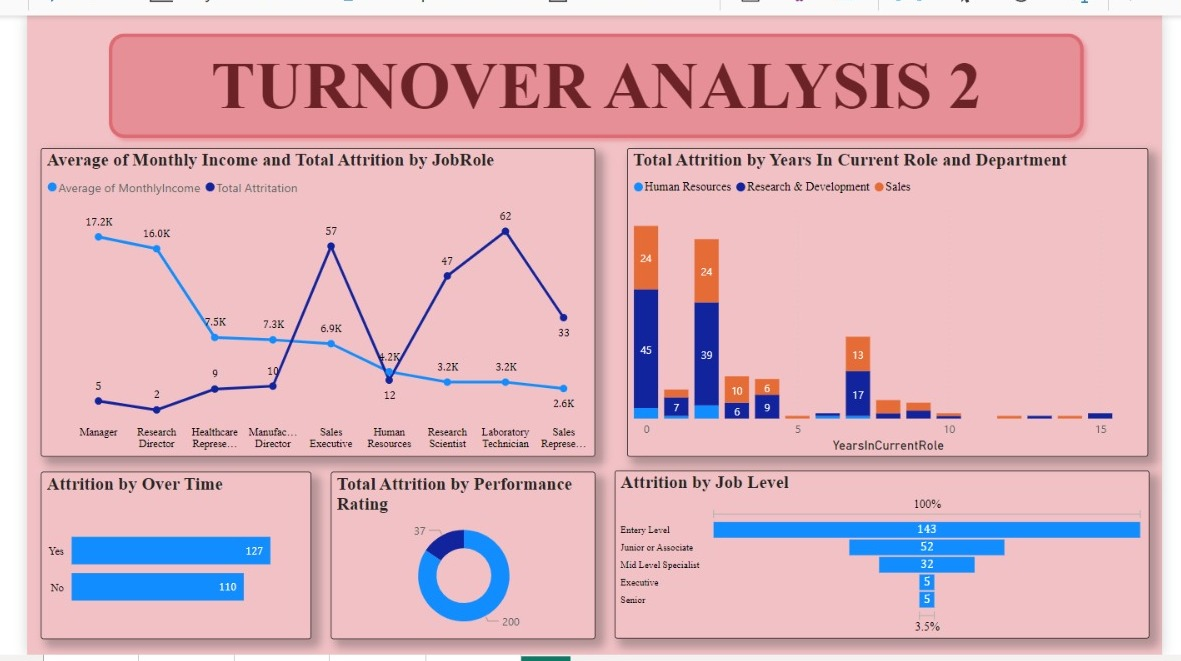

This screenshot's page, from the dashboard's own definition file:
{"tool":"powerbi","page":{"name":"Page 4","canvas":[1280,720],"ordinal":3},"visuals":[{"type":"columnChart","title":"Total Attrition by Years In Current Role and Department","fields":{"Category":["HR-Employee-Attrition.YearsInCurrentRole"],"Y":["All Measure.Total Attritation"],"Series":["HR-Employee-Attrition.Department"]},"box":[676.3,149.9,587.2,348.3],"z":0},{"type":"shape","box":[82.8,10.9,1116.7,135.9],"z":1000},{"type":"lineChart","title":"Average of Monthly Income and Total Attrition by JobRole","fields":{"Category":["HR-Employee-Attrition.JobRole"],"Y":["Avg(HR-Employee-Attrition.MonthlyIncome)"],"Y2":["All Measure.Total Attritation"]},"box":[15.6,149.9,624.7,348.3],"z":2000},{"type":"barChart","title":"Attrition by Over Time","fields":{"Category":["HR-Employee-Attrition.OverTime"],"Y":["All Measure.Total Attritation"]},"box":[15.6,513.8,304.6,189],"z":3000},{"type":"donutChart","title":"Total Attrition by Performance Rating","fields":{"Category":["HR-Employee-Attrition.PerformanceRating (groups)"],"Y":["All Measure.Total Attritation"]},"box":[342,513.8,298.3,189],"z":4000},{"type":"funnel","title":"Attrition by Job Level","fields":{"Category":["HR-Employee-Attrition.JobLevel (groups)"],"Y":["All Measure.Total Attritation"]},"box":[661.7,513.3,602.7,189.3],"z":4001}]}

Visuals, with their boxes on the page's 1280x720 design canvas (x1, y1, x2, y2). These are canvas units, not pixel positions in the 1181x661 screenshot, which may show the page scaled, cropped or inside an application window:
"Total Attrition by Years In Current Role and Department" columnChart: [x1=676, y1=150, x2=1264, y2=498]
shape: [x1=83, y1=11, x2=1200, y2=147]
"Average of Monthly Income and Total Attrition by JobRole" lineChart: [x1=16, y1=150, x2=640, y2=498]
"Attrition by Over Time" barChart: [x1=16, y1=514, x2=320, y2=703]
"Total Attrition by Performance Rating" donutChart: [x1=342, y1=514, x2=640, y2=703]
"Attrition by Job Level" funnel: [x1=662, y1=513, x2=1264, y2=703]
